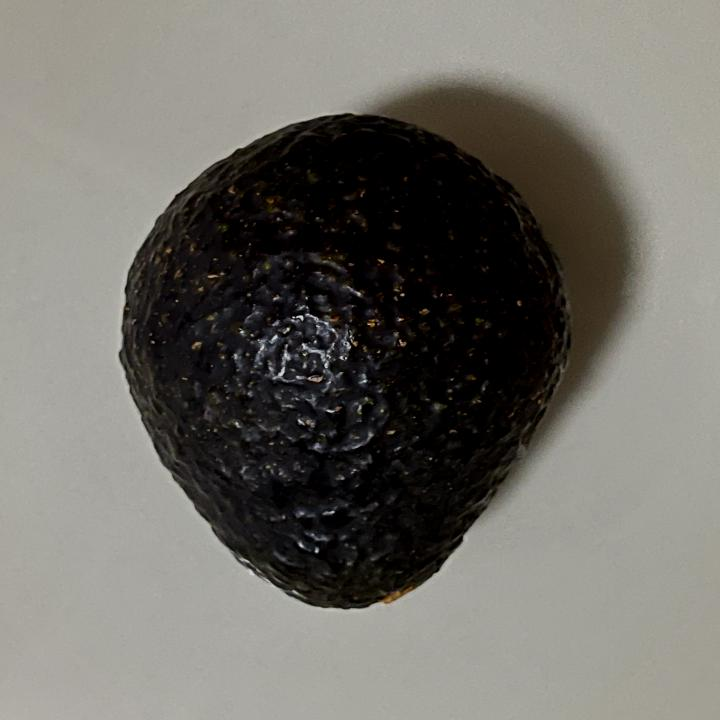Level2: (112, 107, 582, 620)
